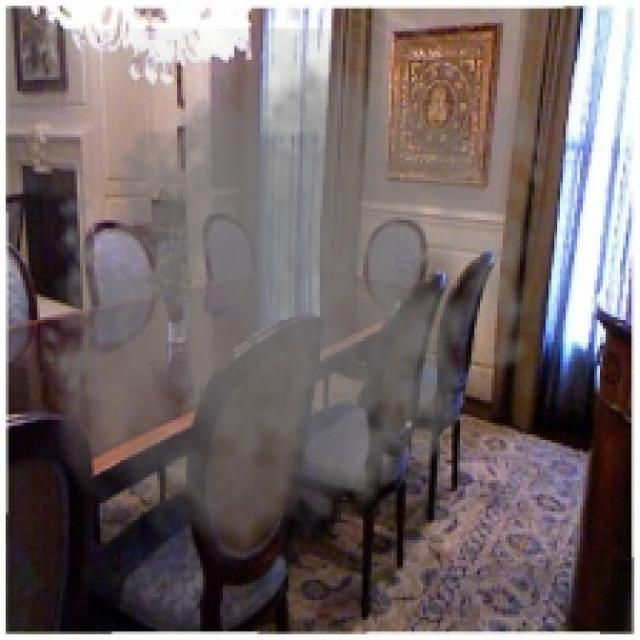smoke: (31, 28, 563, 583)
